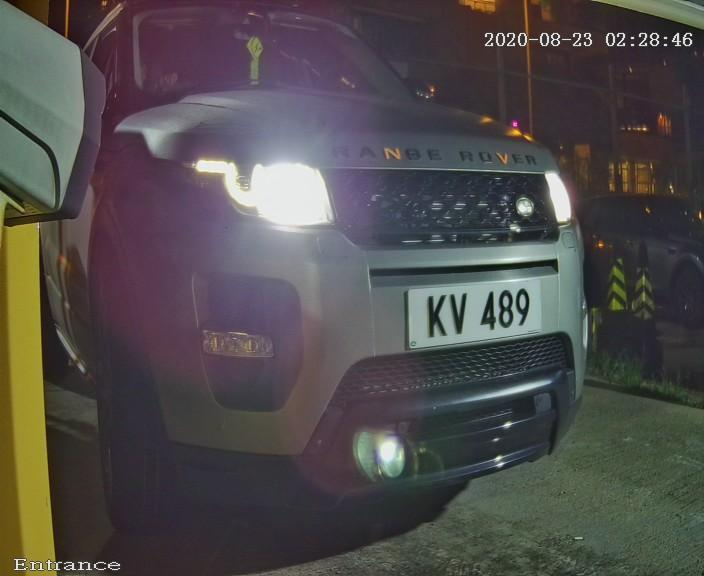Car: (41, 3, 617, 538)
License Plate: (397, 263, 557, 361)
